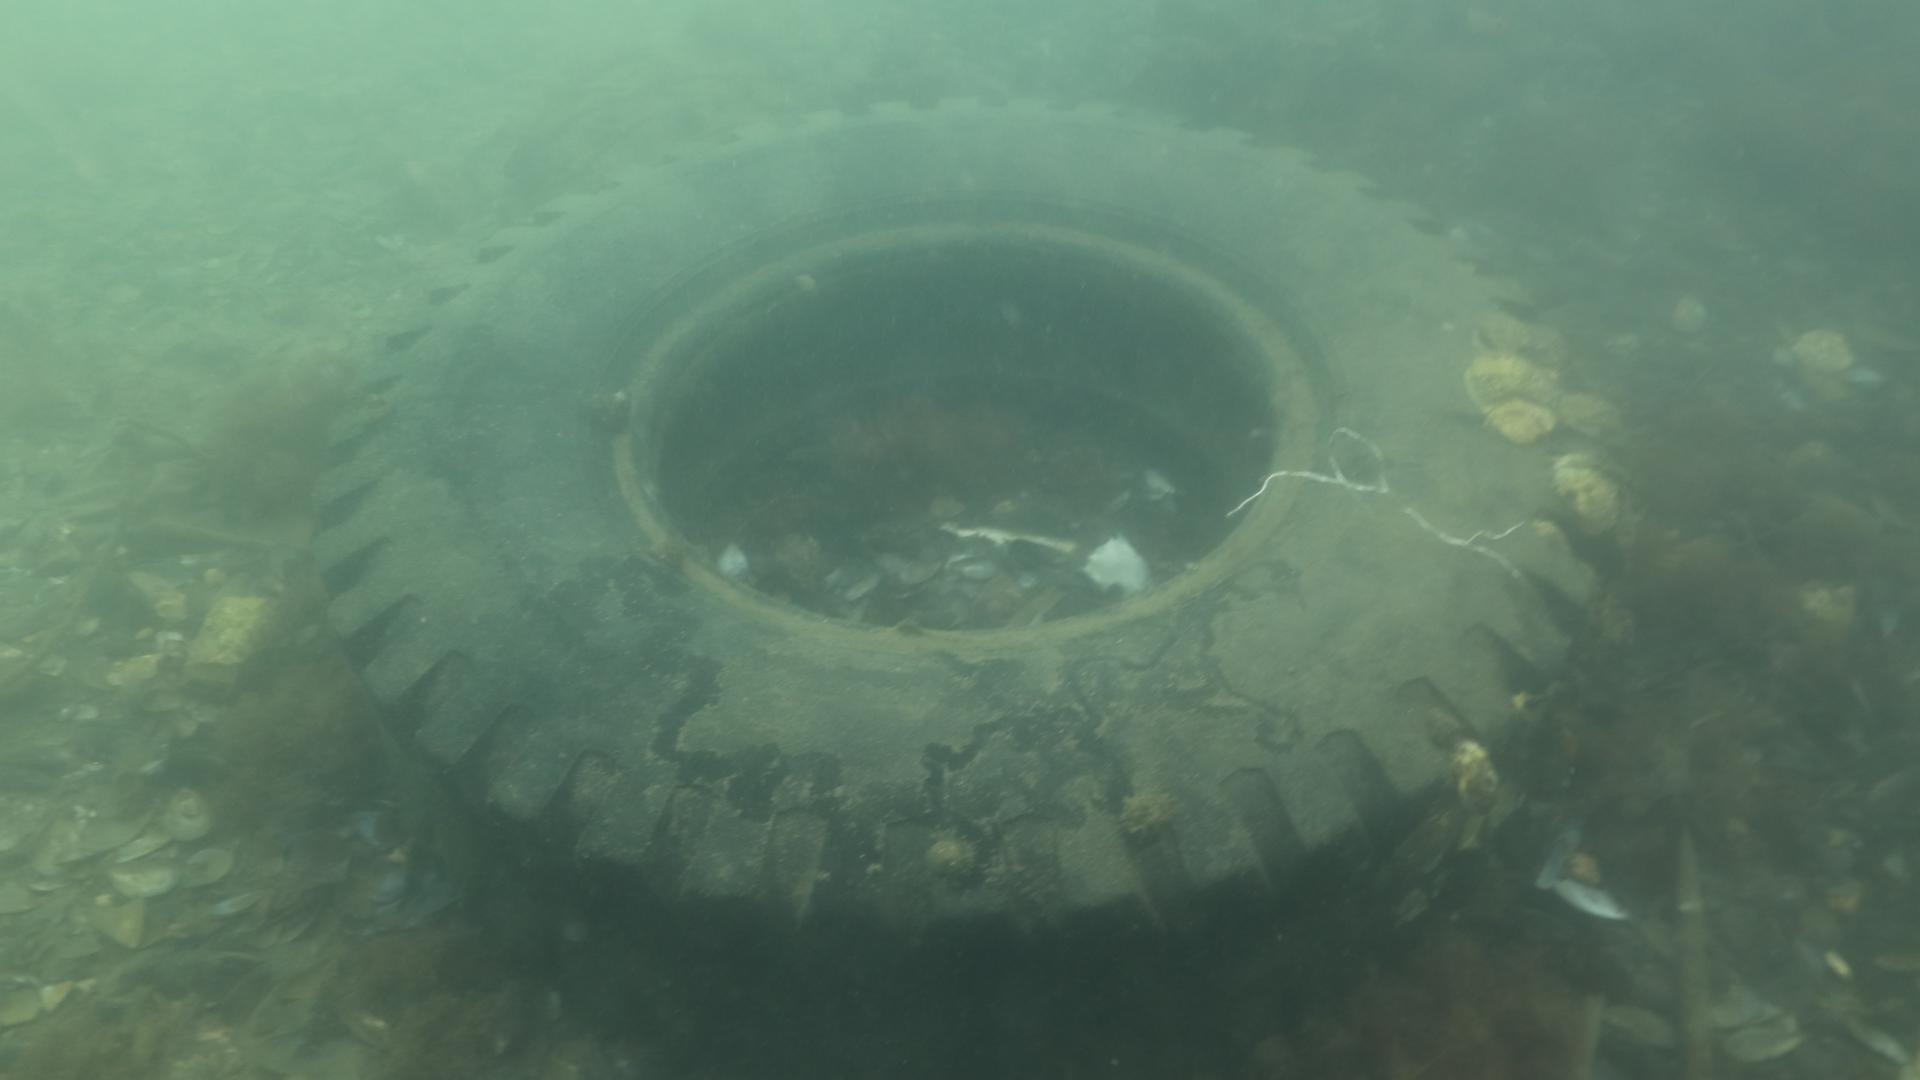tire: (310, 96, 1627, 1059)
